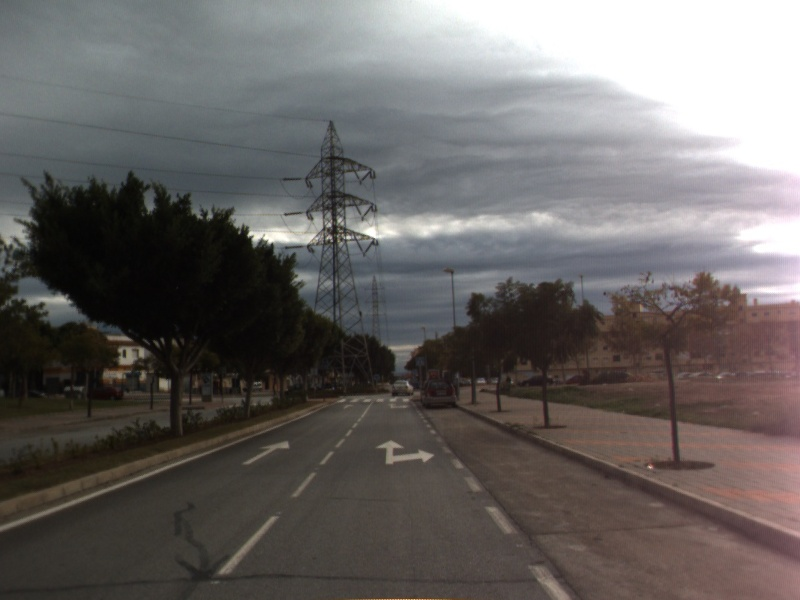STRAIGHT: (240, 439, 291, 466), (341, 403, 356, 411)
STRAIGHT_RIGHT: (373, 438, 437, 466), (386, 402, 412, 410)
